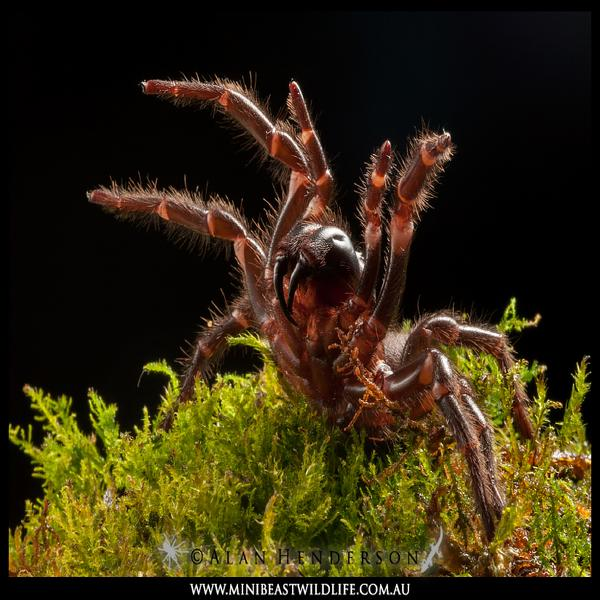Funnel Web Spider: (102, 78, 530, 520)
